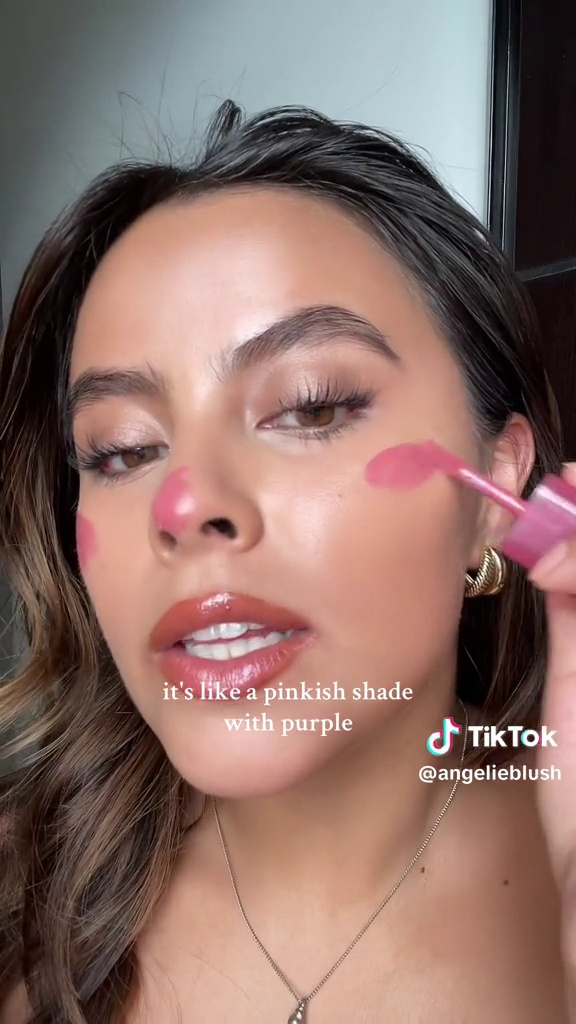train' :'yolo_data/train/images',: (418, 434, 575, 595)
